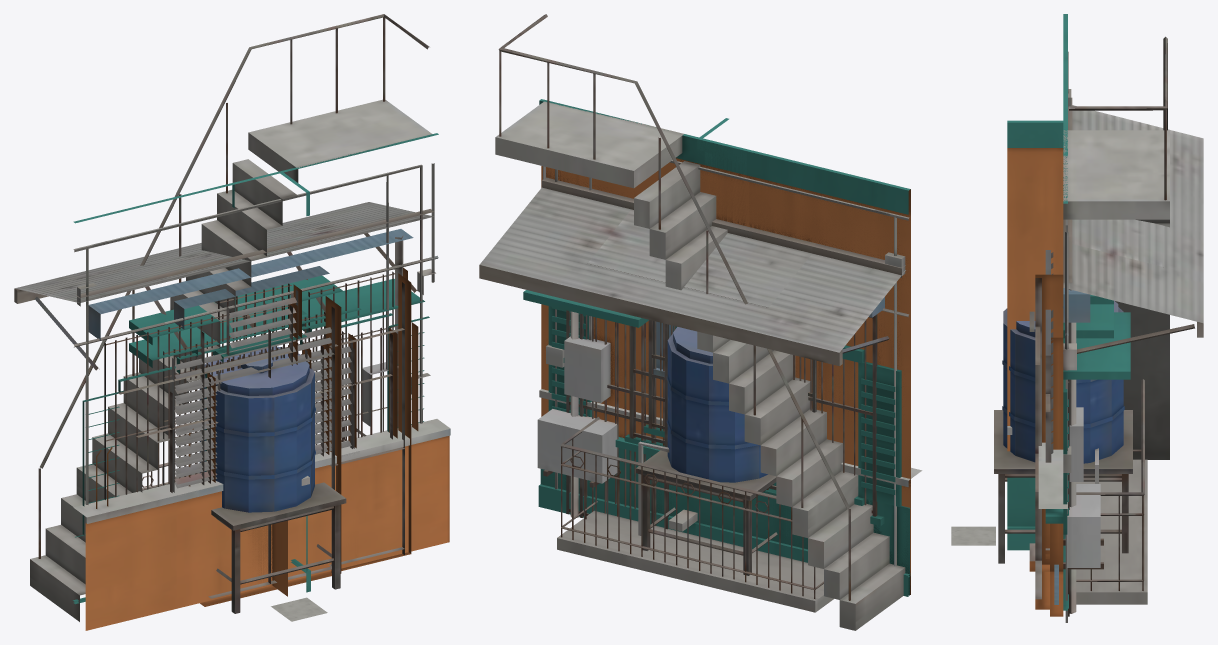
File: kit_barrio_lowrise.glb
3 views of the same model, side by side, from view 1: azimuth 30°, elevation 25°; view 2: azimuth 150°, elevation 25°; view 3: azimuth 270°, elevation 25° (orthographic). The views are drawn at different scales.
Visible parts, largest first — view 1: ground_entrance_4_a_lod0, top_parapet_4_a_lod0, ground_shop_4_a_lod0, roof_prop_1_a_lod0, top_parapet_2_a_lod0, ground_wall_4_a_lod0, ground_shop_2_a_lod0, upper_window_4_a_lod0, ground_garage_4_a_lod0, upper_window_4_b_lod0, ground_wall_2_a_lod0, corner_top_a_lod0 (+4 smaller); view 2: ground_entrance_4_a_lod0, ground_shop_4_a_lod0, upper_balcony_4_a_lod0, roof_prop_1_a_lod0, ground_wall_4_a_lod0, ground_shop_2_a_lod0, upper_window_4_b_lod0, upper_window_4_a_lod0, ground_garage_4_a_lod0, upper_blank_4_a_lod0, top_parapet_4_a_lod0, corner_ground_a_lod0 (+2 smaller); view 3: ground_entrance_4_a_lod0, ground_shop_4_a_lod0, corner_ground_a_lod0, roof_prop_1_a_lod0, upper_balcony_4_a_lod0, ground_shop_2_a_lod0, upper_window_4_a_lod0, upper_window_4_b_lod0, corner_upper_a_lod0, top_parapet_4_a_lod0, ground_wall_4_a_lod0, upper_blank_4_a_lod0 (+3 smaller).
Boxes of the visible parts, x1=… form: ground_entrance_4_a_lod0: x1=30, y1=14, x2=438, y2=621; top_parapet_4_a_lod0: x1=73, y1=419, x2=450, y2=630; ground_shop_4_a_lod0: x1=14, y1=164, x2=434, y2=570; roof_prop_1_a_lod0: x1=175, y1=346, x2=346, y2=613; top_parapet_2_a_lod0: x1=176, y1=428, x2=359, y2=608; ground_wall_4_a_lod0: x1=73, y1=172, x2=398, y2=491; ground_shop_2_a_lod0: x1=121, y1=169, x2=345, y2=606; upper_window_4_a_lod0: x1=86, y1=292, x2=387, y2=522; ground_garage_4_a_lod0: x1=76, y1=229, x2=413, y2=536; upper_window_4_b_lod0: x1=82, y1=313, x2=429, y2=534; ground_wall_2_a_lod0: x1=213, y1=283, x2=306, y2=362; corner_top_a_lod0: x1=247, y1=476, x2=310, y2=596; ground_entrance_4_a_lod0: x1=495, y1=14, x2=910, y2=630; ground_shop_4_a_lod0: x1=479, y1=158, x2=910, y2=593; upper_balcony_4_a_lod0: x1=543, y1=294, x2=910, y2=612; roof_prop_1_a_lod0: x1=636, y1=327, x2=777, y2=575; ground_wall_4_a_lod0: x1=541, y1=159, x2=910, y2=593; ground_shop_2_a_lod0: x1=588, y1=134, x2=818, y2=546; upper_window_4_b_lod0: x1=548, y1=300, x2=910, y2=506; upper_window_4_a_lod0: x1=537, y1=284, x2=910, y2=570; ground_garage_4_a_lod0: x1=541, y1=158, x2=910, y2=594; upper_blank_4_a_lod0: x1=542, y1=306, x2=910, y2=574; top_parapet_4_a_lod0: x1=538, y1=389, x2=922, y2=596; corner_ground_a_lod0: x1=697, y1=118, x2=749, y2=525; ground_entrance_4_a_lod0: x1=1050, y1=14, x2=1169, y2=616; ground_shop_4_a_lod0: x1=1035, y1=97, x2=1203, y2=622; corner_ground_a_lod0: x1=1007, y1=99, x2=1067, y2=526; roof_prop_1_a_lod0: x1=994, y1=300, x2=1132, y2=563; upper_balcony_4_a_lod0: x1=1045, y1=379, x2=1147, y2=610; ground_shop_2_a_lod0: x1=1029, y1=61, x2=1164, y2=571; upper_window_4_a_lod0: x1=1045, y1=304, x2=1113, y2=569; upper_window_4_b_lod0: x1=1045, y1=355, x2=1068, y2=534; corner_upper_a_lod0: x1=1007, y1=222, x2=1063, y2=450; top_parapet_4_a_lod0: x1=1038, y1=461, x2=1068, y2=608; ground_wall_4_a_lod0: x1=1045, y1=294, x2=1113, y2=538; upper_blank_4_a_lod0: x1=1065, y1=289, x2=1076, y2=613.
Size of what is drawn, in the model's own units: 4 by 5.14 by 2.25.
Materials: 8 (8 with a texture image).
